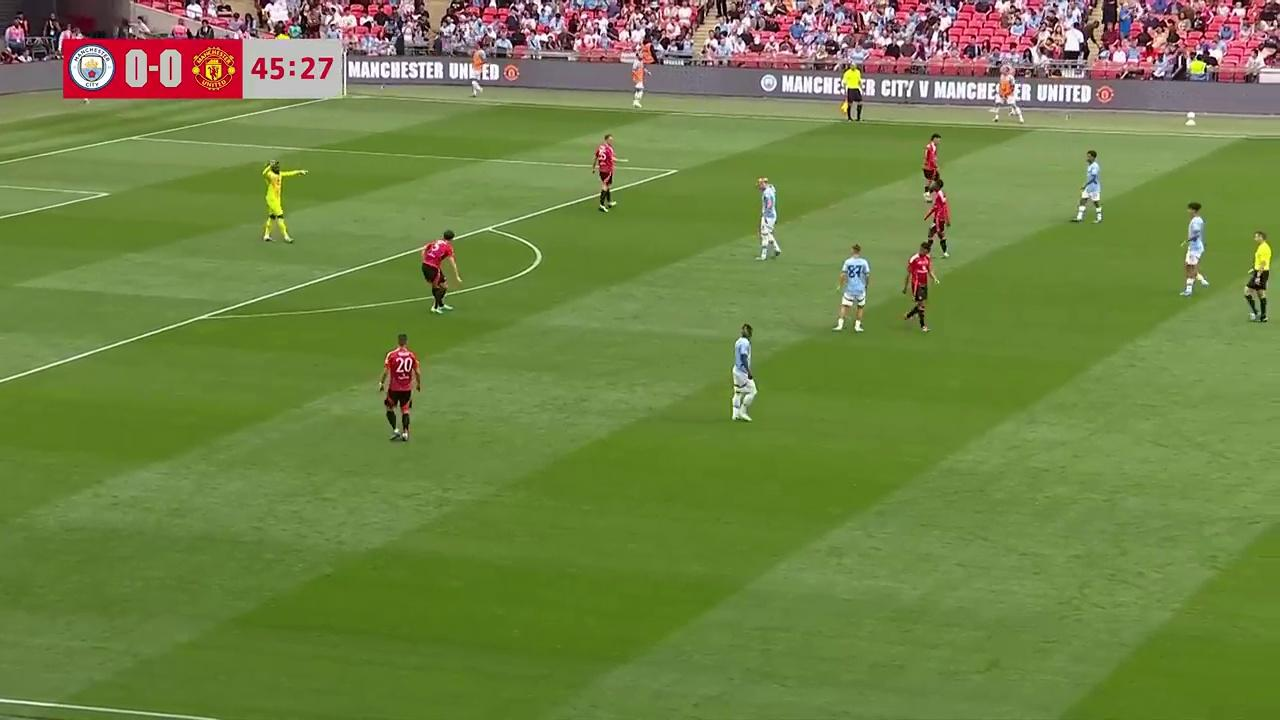player: (379, 333, 422, 442), (901, 241, 940, 332), (833, 242, 870, 333), (422, 226, 458, 313), (262, 159, 295, 243), (1179, 202, 1208, 297), (731, 323, 757, 421), (1073, 149, 1103, 224), (923, 183, 951, 257), (755, 184, 781, 260), (593, 138, 616, 212), (922, 134, 940, 193)
referee: (1244, 232, 1272, 323), (840, 64, 865, 123)
